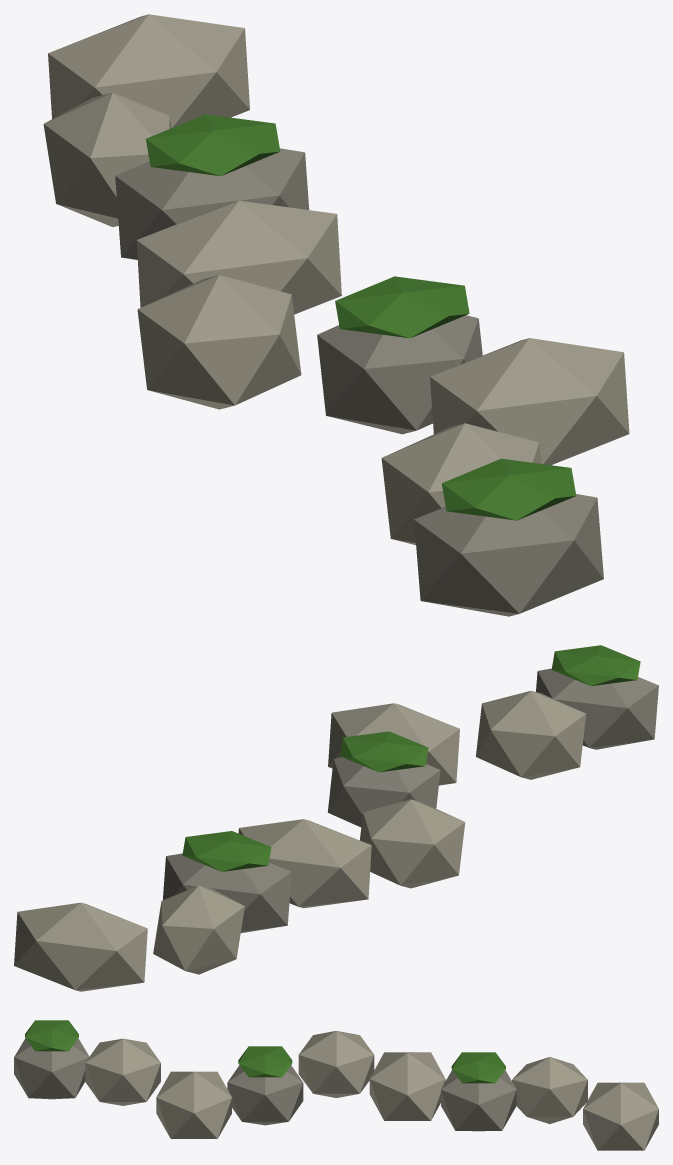
Rendered from terrain_riverbank_rocky.glb.
The picture shows the model from 3 angles, top to bottom: view 1: azimuth 30°, elevation 25°; view 2: azimuth 150°, elevation 25°; view 3: azimuth 270°, elevation 25°; orthographic projection. The views are drawn at different scales.
Parts seen in each view (by area): view 1: terrain_riverbank_rocky; view 2: terrain_riverbank_rocky; view 3: terrain_riverbank_rocky.
Boxes of the visible parts, left/top/right/bottom form: terrain_riverbank_rocky: left=43, top=14, right=629, bottom=616; terrain_riverbank_rocky: left=14, top=645, right=658, bottom=991; terrain_riverbank_rocky: left=14, top=1020, right=658, bottom=1150.
Bounding box in the file's own units: 2.14 × 0.735 × 6.07.
